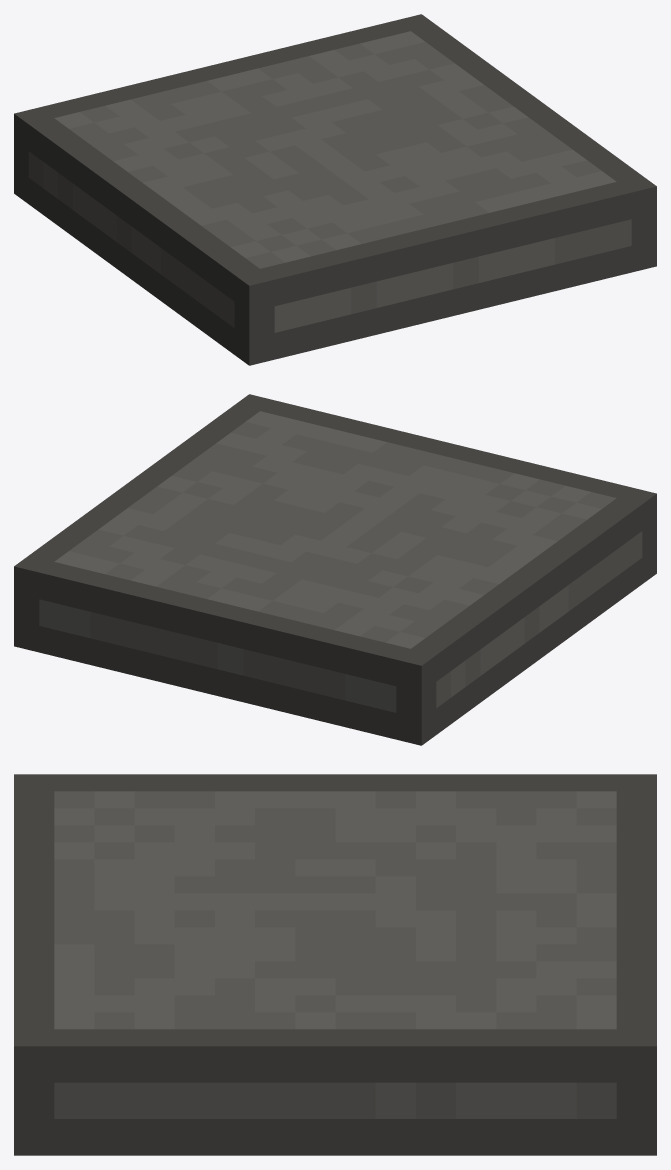
Rendered from tavern-65-floor_stone1.obj.
3 renders of one model, top to bottom at view 1: azimuth 30°, elevation 25°; view 2: azimuth 150°, elevation 25°; view 3: azimuth 270°, elevation 25°, orthographic. The views are drawn at different scales.
Visible parts, largest first — view 1: floor_stone1; view 2: floor_stone1; view 3: floor_stone1.
Part boxes in pixels (box(x1,y1,x2,y2)): floor_stone1: box(14, 14, 656, 365); floor_stone1: box(14, 394, 656, 745); floor_stone1: box(14, 774, 656, 1155).
Bounding box in the file's own units: 1.6 × 0.3 × 1.6.
Materials: 1 (1 with a texture image).
